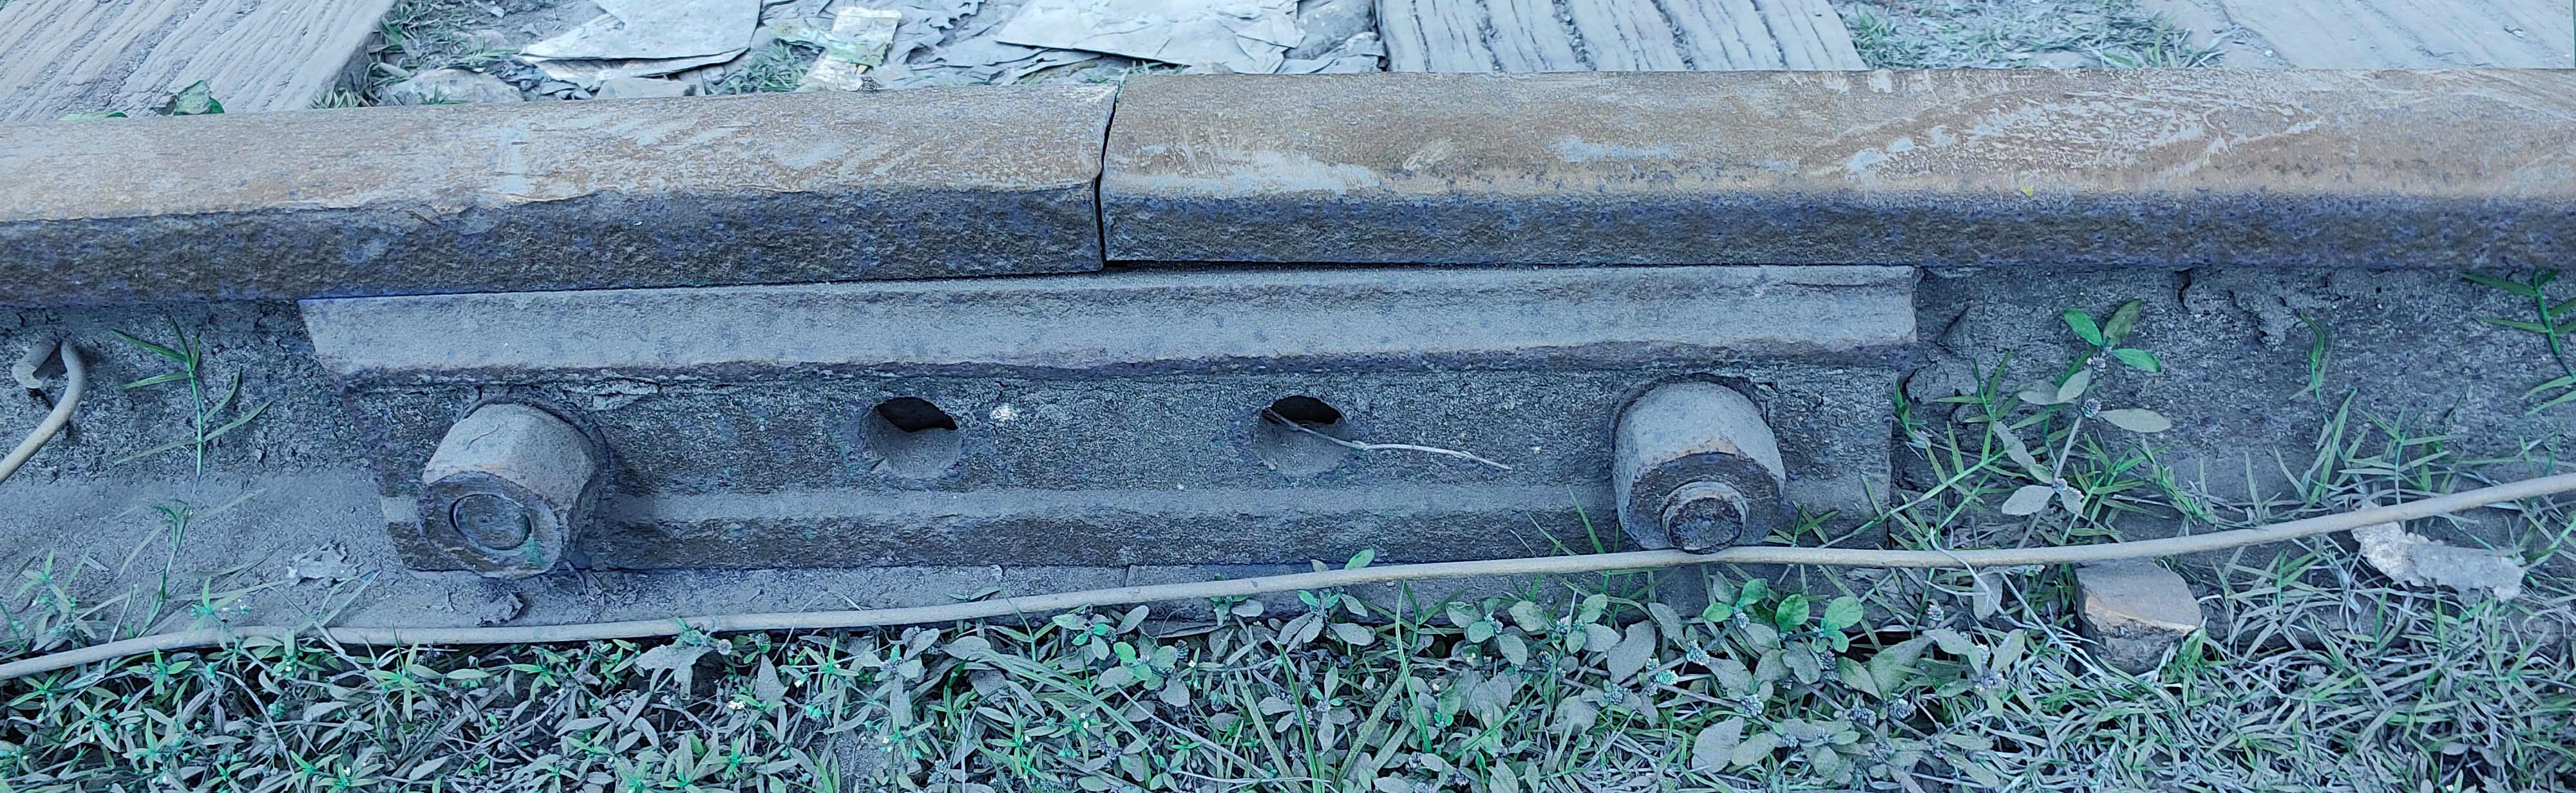error2: (1035, 26, 1250, 297)
